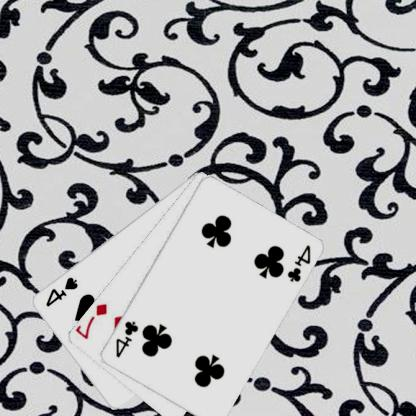4C: (286, 242, 314, 284), (114, 318, 142, 359)
4S: (44, 274, 81, 308)
7D: (75, 300, 110, 341)
